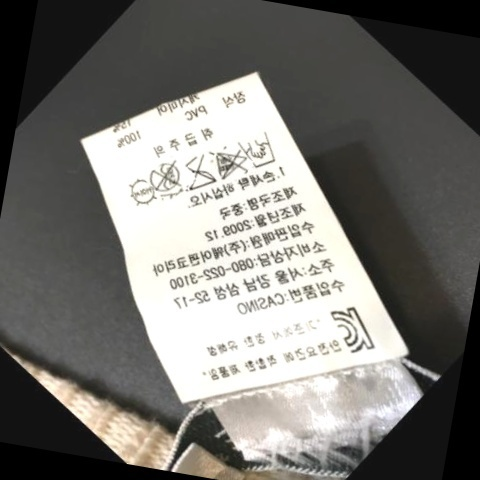DN_dry_clean: (144, 156, 183, 199)
DN_iron: (176, 152, 218, 196)
dry_flat: (124, 177, 160, 209)
hand_wash: (235, 130, 280, 169)
non_chlorine_bleach: (205, 143, 247, 183)
